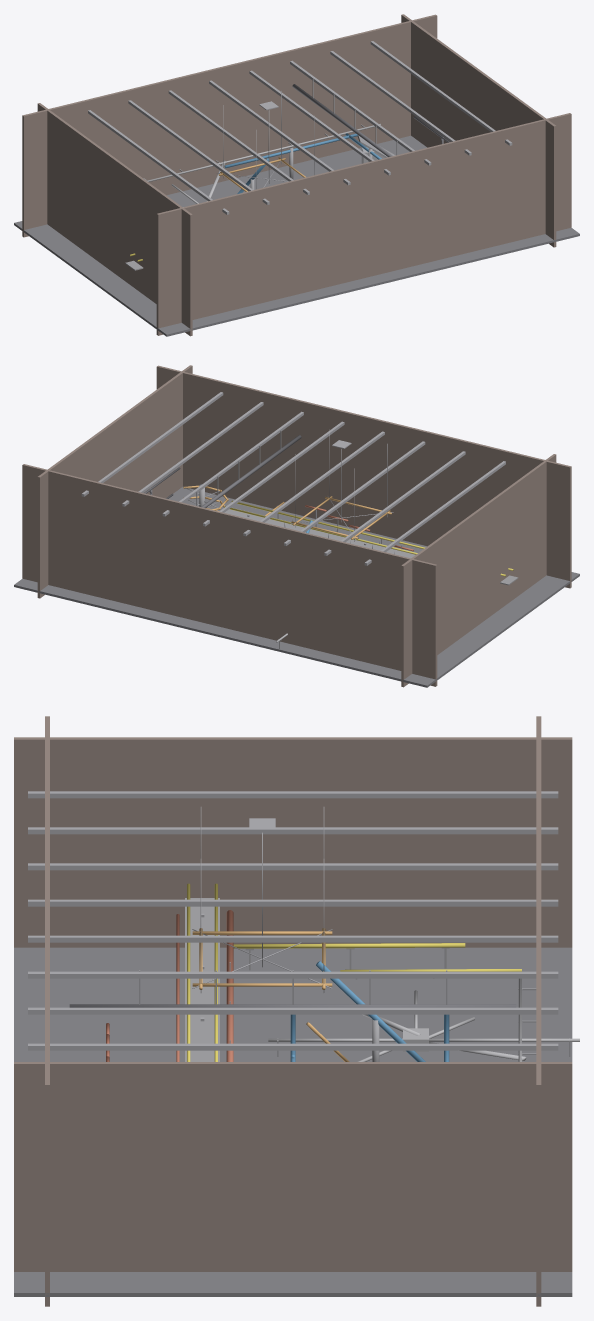
File: grind_level_expanded.glb
3 renders of one model, top to bottom at view 1: azimuth 30°, elevation 25°; view 2: azimuth 150°, elevation 25°; view 3: azimuth 270°, elevation 25°, orthographic. The views are drawn at different scales.
Visible parts, largest first — view 1: SM_Wall_South, SM_Wall_North, SM_Wall_West, SM_Floor, SM_Wall_East, SM_CeilingBeam_01, SM_CeilingBeam_06, SM_CeilingBeam_05, SM_CeilingBeam_07, SM_CeilingBeam_00, SM_CeilingBeam_03, SM_CeilingBeam_02 (+4 smaller); view 2: SM_Wall_North, SM_Wall_South, SM_Wall_West, SM_Wall_East, SM_Floor, SM_Catwalk_Deck, SM_CeilingBeam_01, SM_CeilingBeam_06, SM_CeilingBeam_05, SM_CeilingBeam_07, SM_CeilingBeam_00, SM_CeilingBeam_03 (+4 smaller); view 3: SM_Wall_East, SM_Wall_West, SM_Floor, SM_CeilingBeam_00, SM_CeilingBeam_03, SM_CeilingBeam_04, SM_CeilingBeam_05, SM_CeilingBeam_06, SM_CeilingBeam_07, SM_CeilingBeam_02, SM_CeilingBeam_01, SM_Catwalk_Deck (+6 smaller).
Boxes of the visible parts, x1,y1,x2,y2 form: SM_Wall_South: (156, 113, 571, 335); SM_Wall_North: (22, 14, 437, 237); SM_Wall_West: (37, 103, 192, 336); SM_Floor: (14, 135, 579, 336); SM_Wall_East: (401, 14, 556, 247); SM_CeilingBeam_01: (128, 100, 269, 204); SM_CeilingBeam_06: (330, 51, 471, 155); SM_CeilingBeam_05: (290, 60, 431, 165); SM_CeilingBeam_07: (370, 41, 512, 145); SM_CeilingBeam_00: (88, 110, 229, 214); SM_CeilingBeam_03: (209, 80, 350, 185); SM_CeilingBeam_02: (168, 90, 309, 194); SM_Wall_North: (22, 464, 437, 686); SM_Wall_South: (156, 365, 571, 588); SM_Wall_West: (401, 454, 556, 687); SM_Wall_East: (37, 365, 192, 598); SM_Floor: (14, 486, 579, 687); SM_Catwalk_Deck: (224, 507, 518, 585); SM_CeilingBeam_01: (324, 451, 465, 555); SM_CeilingBeam_06: (122, 402, 263, 506); SM_CeilingBeam_05: (162, 411, 303, 516); SM_CeilingBeam_07: (81, 392, 223, 496); SM_CeilingBeam_00: (364, 461, 505, 565); SM_CeilingBeam_03: (243, 431, 384, 536); SM_Wall_East: (14, 1062, 572, 1271); SM_Wall_West: (14, 737, 572, 947); SM_Floor: (14, 947, 572, 1296); SM_CeilingBeam_00: (28, 791, 558, 798); SM_CeilingBeam_03: (28, 899, 558, 906); SM_CeilingBeam_04: (28, 935, 558, 942); SM_CeilingBeam_05: (28, 971, 558, 978); SM_CeilingBeam_06: (28, 1007, 558, 1014); SM_CeilingBeam_07: (28, 1043, 558, 1050); SM_CeilingBeam_02: (28, 863, 558, 870); SM_CeilingBeam_01: (28, 827, 558, 834); SM_Catwalk_Deck: (185, 898, 219, 1061).
Bounding box in the file's own units: 93.75 × 31.51 × 60.82.
